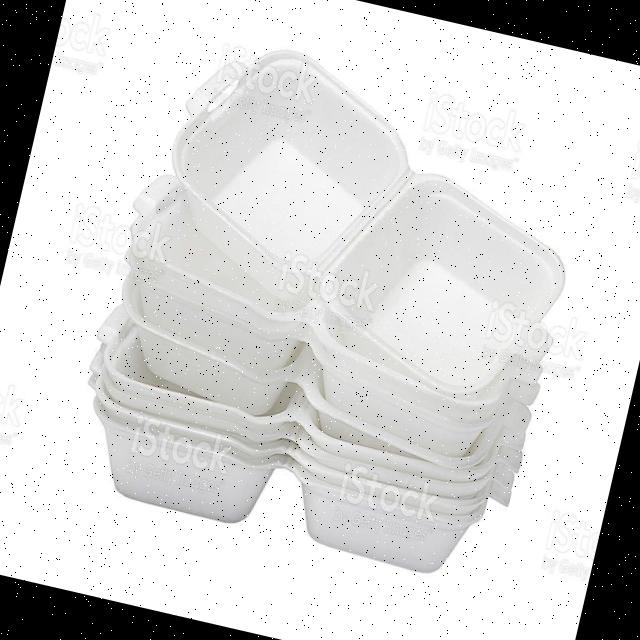styrofoam: (60, 19, 606, 590)
